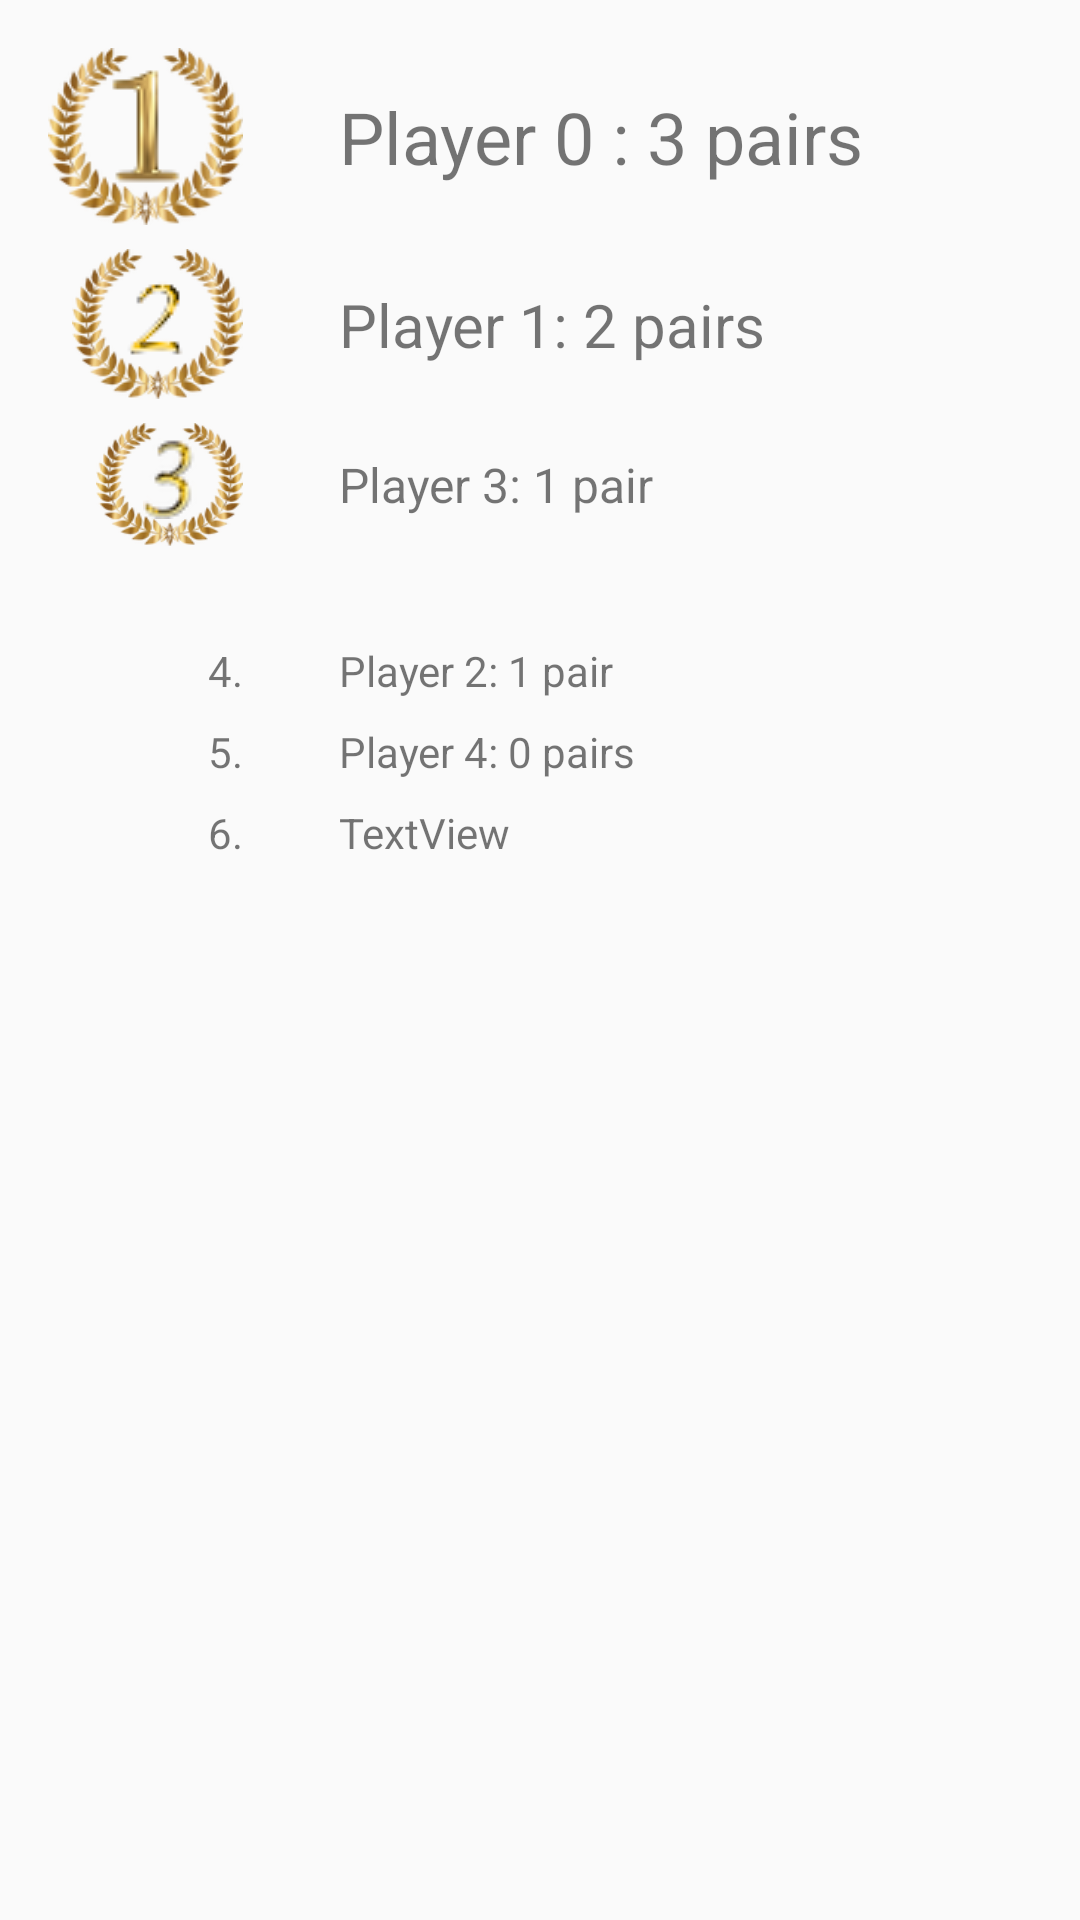

Named icons in this screenshot (1080px×1920px) and their bounding boxes, (x1, y1, x2, y2):
rank golden: (48, 48, 243, 225), (72, 249, 243, 399), (96, 423, 243, 546)
